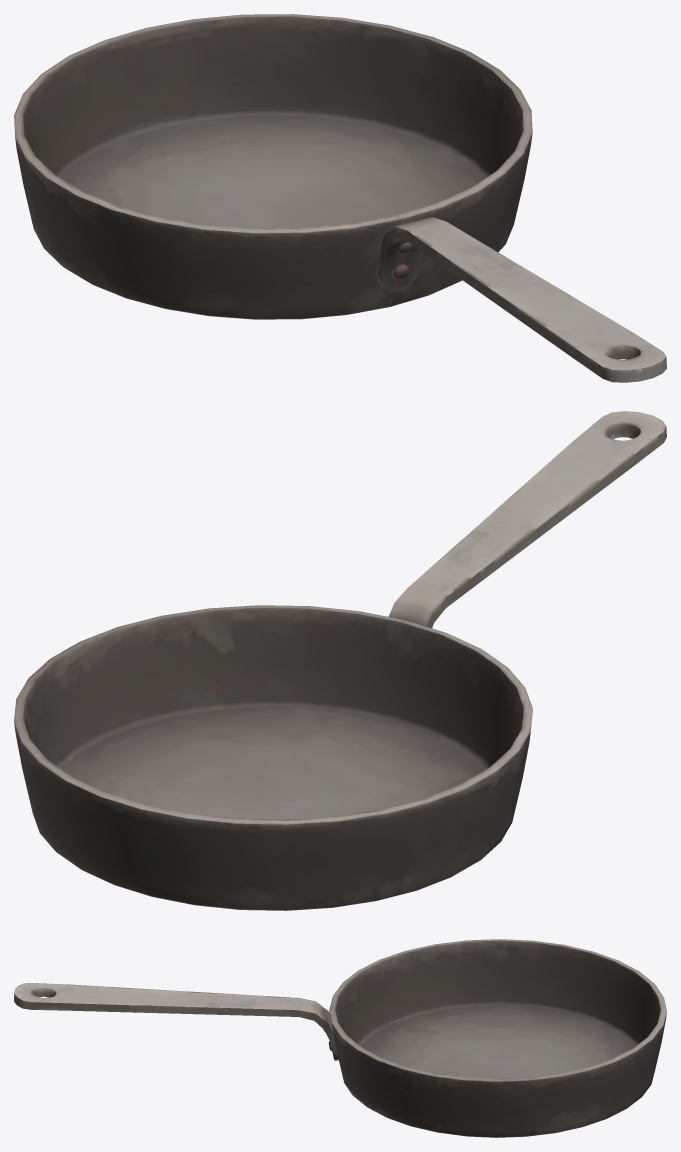
Rendered from SM_SaucePan_Black_Pan_01.fbx.
3 renders of one model, top to bottom at view 1: azimuth 30°, elevation 25°; view 2: azimuth 150°, elevation 25°; view 3: azimuth 270°, elevation 25°, orthographic. The views are drawn at different scales.
Parts seen in each view (by area): view 1: SM_SaucePan_Black_Pan_01_LOD0; view 2: SM_SaucePan_Black_Pan_01_LOD0; view 3: SM_SaucePan_Black_Pan_01_LOD0.
Boxes of the visible parts, bbox=[...] form: SM_SaucePan_Black_Pan_01_LOD0: bbox=[14, 14, 666, 382]; SM_SaucePan_Black_Pan_01_LOD0: bbox=[14, 411, 666, 910]; SM_SaucePan_Black_Pan_01_LOD0: bbox=[14, 939, 666, 1137].
Size of the model in its own units: 31.15 by 60.23 by 8.23.
Materials: 1 (1 with a texture image).
